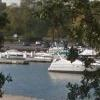Boat: (3, 39, 95, 76)
